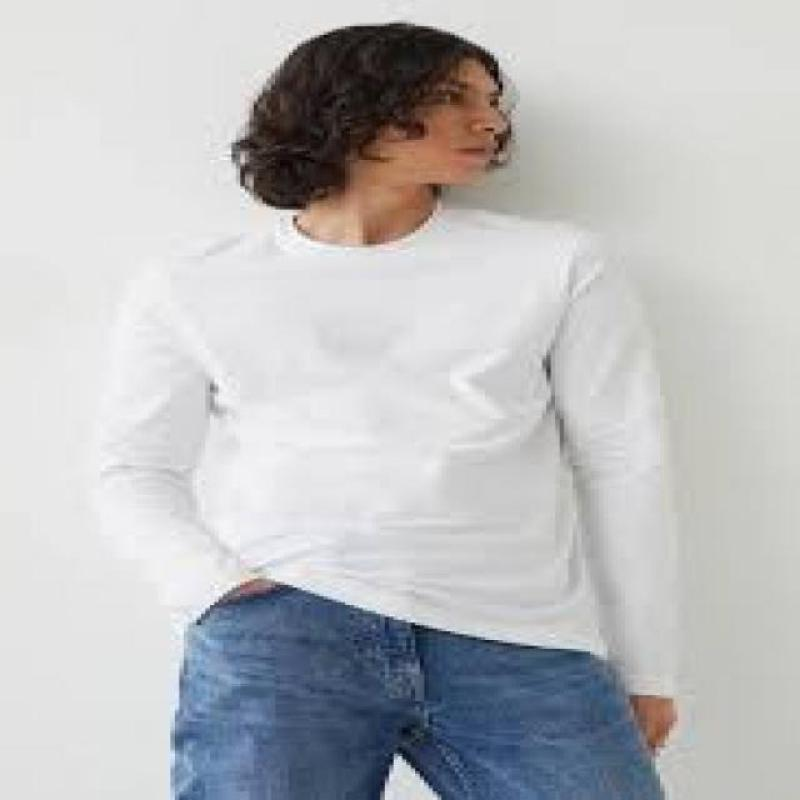long sleeve shirt: (93, 193, 685, 705)
trousers: (169, 581, 668, 800)
